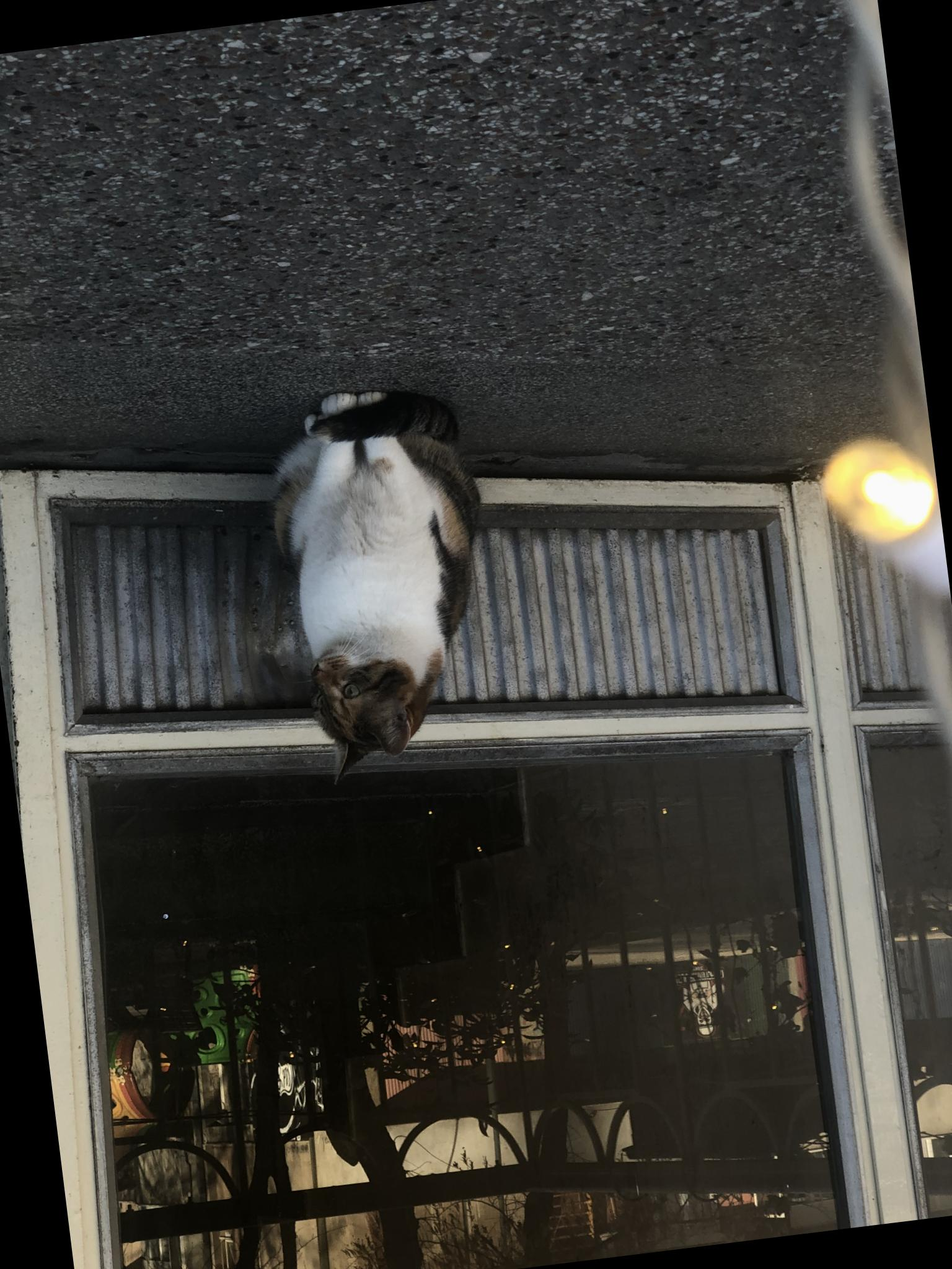macka: (258, 376, 511, 790)
